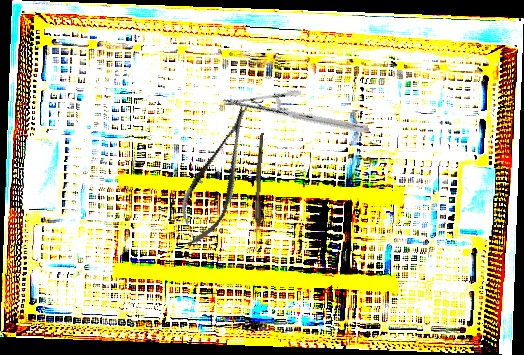Micro Scissor: (167, 98, 268, 254)
Needle Holder: (222, 59, 370, 172)
Surgical Spoon: (253, 132, 264, 252)
